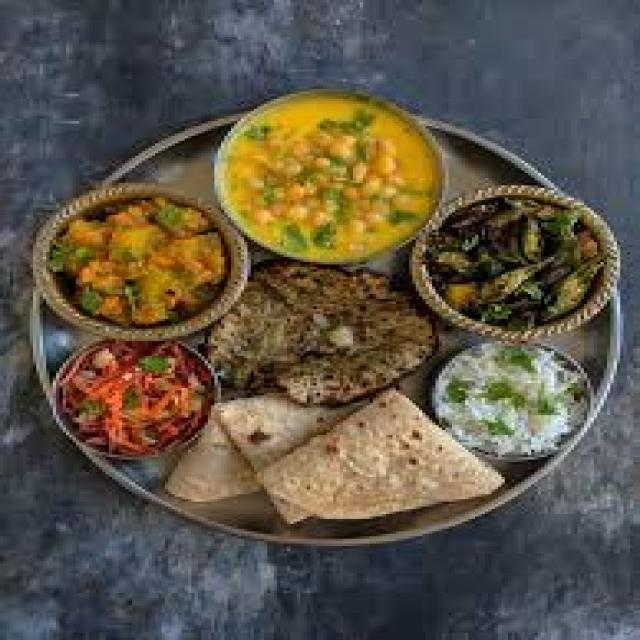dal: (207, 83, 449, 266)
papad: (227, 255, 428, 397)
raita: (418, 338, 608, 464)
rice: (415, 343, 613, 464), (419, 338, 609, 463)
roti: (185, 392, 489, 525)
veg: (43, 192, 230, 327)
veg-fry: (410, 200, 609, 333)
